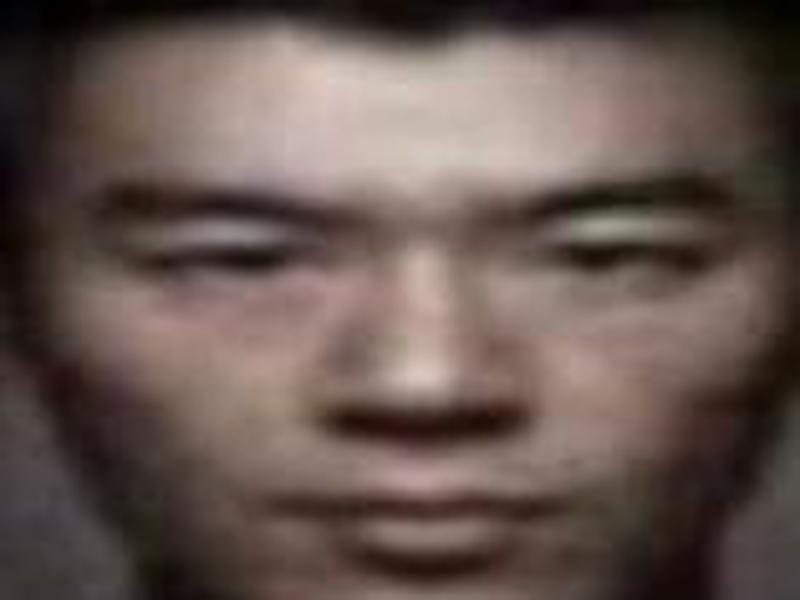without_mask: (48, 59, 780, 600)
